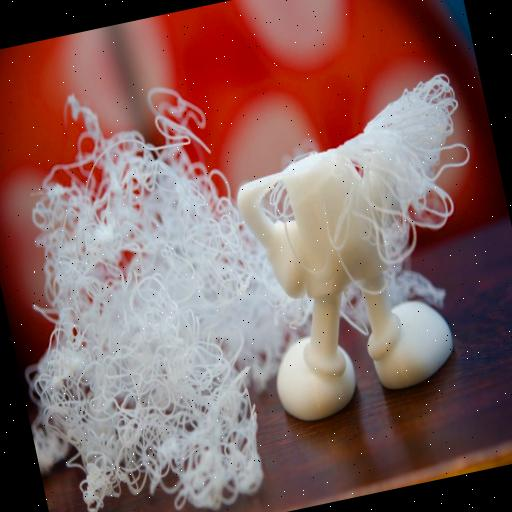spaghetti: (0, 54, 322, 512), (330, 72, 500, 278)
